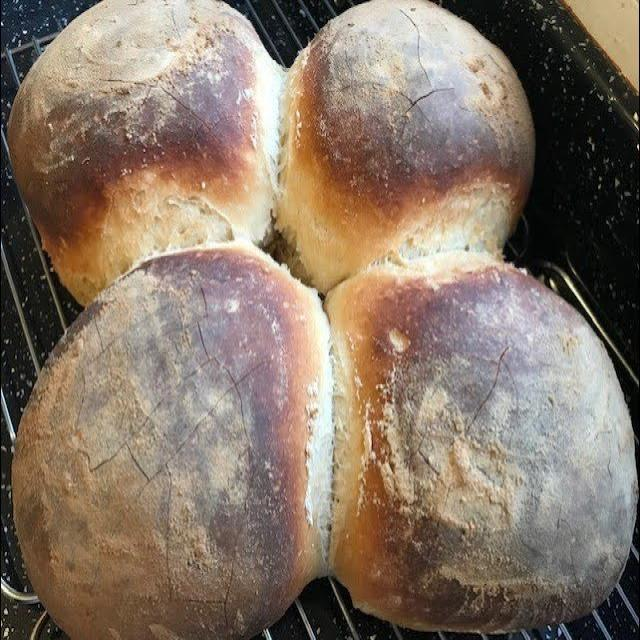Maltese-Bread: (13, 245, 331, 639), (325, 256, 635, 631), (8, 3, 284, 304), (276, 0, 534, 292)
